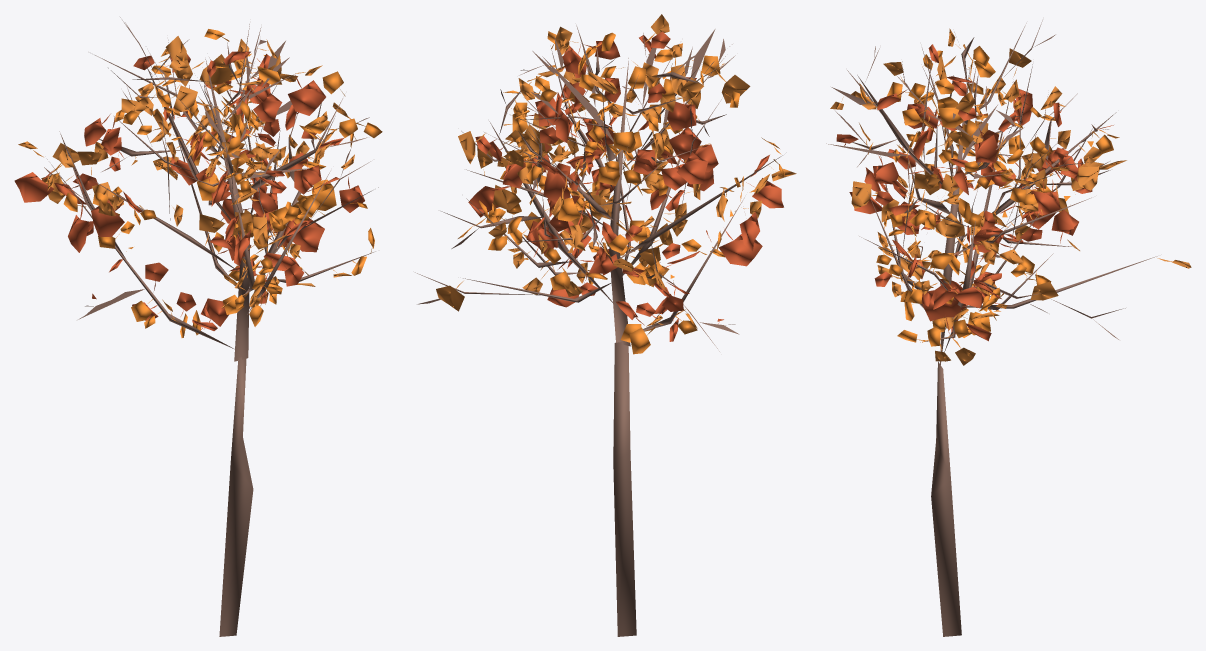
The model's file is clen4.fbx.
3 renders of one model, left to right at view 1: azimuth 30°, elevation 25°; view 2: azimuth 150°, elevation 25°; view 3: azimuth 270°, elevation 25°, orthographic. The views are drawn at different scales.
Visible parts, largest first — view 1: red; view 2: red; view 3: red.
Boxes of the visible parts, x1,y1,x2,y2 form: red: (14,17,382,636); red: (415,14,796,636); red: (826,20,1191,636).
Bounding box in the file's own units: 54.01 × 98.6 × 55.42.
